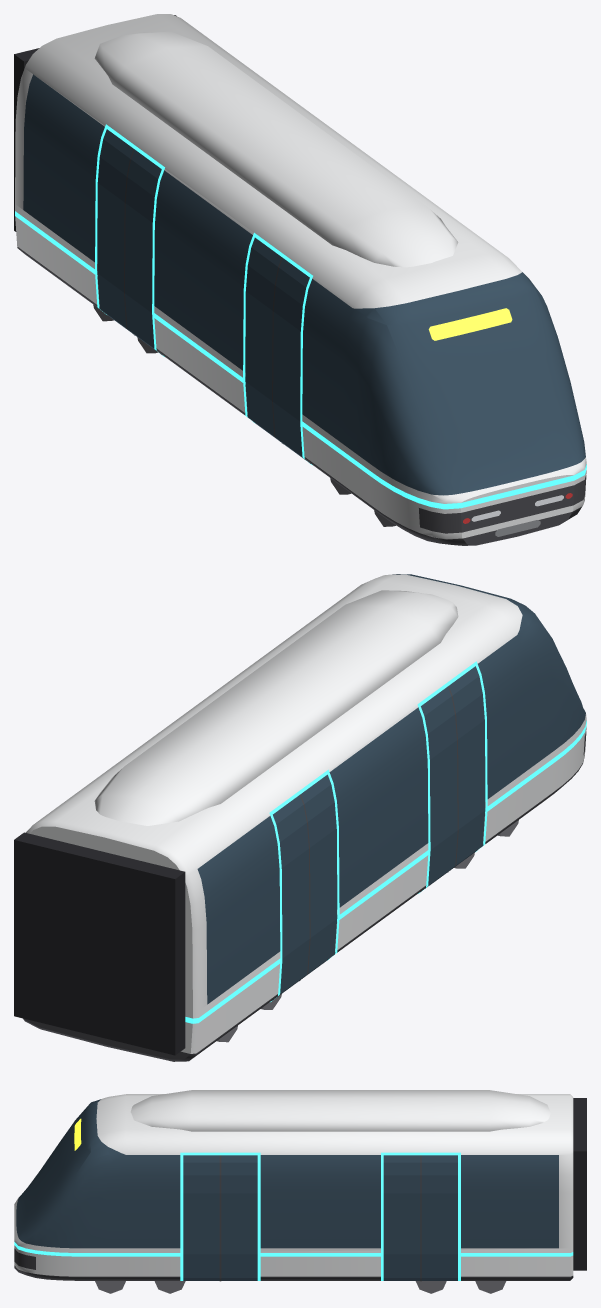
The picture shows the model from 3 angles, top to bottom: view 1: azimuth 30°, elevation 25°; view 2: azimuth 150°, elevation 25°; view 3: azimuth 270°, elevation 25°; orthographic projection. The views are drawn at different scales.
Parts seen in each view (by area): view 1: 14_1; view 2: 14_1; view 3: 14_1.
Boxes of the visible parts, x1,y1,x2,y2 form: 14_1: [14, 14, 586, 545]; 14_1: [14, 574, 586, 1061]; 14_1: [14, 1090, 586, 1293].
Size of the model in its own units: 2.53 by 3.37 by 10.01.
